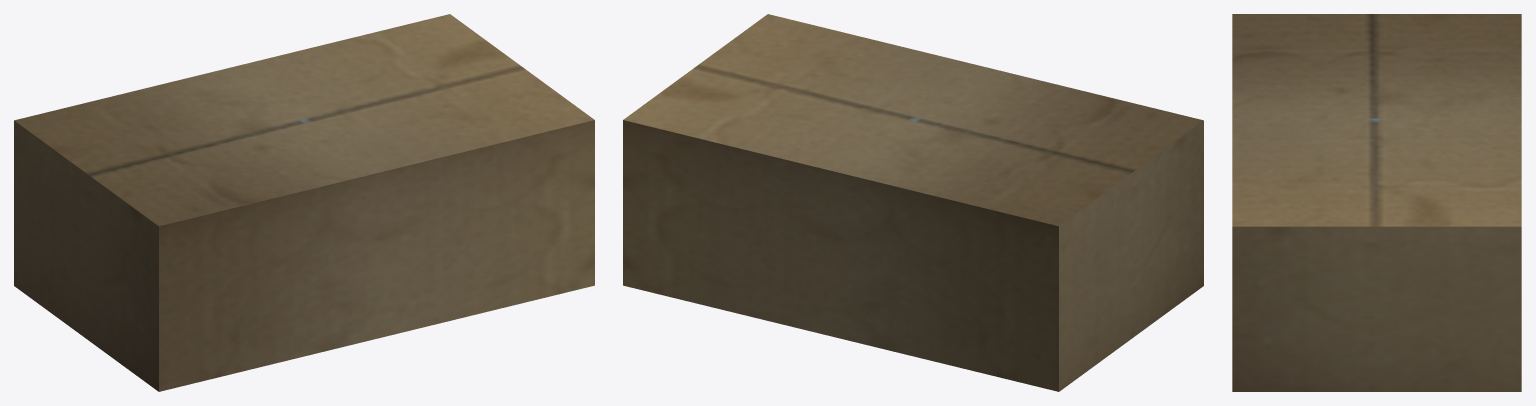
File: paper_box_c.fbx
The picture shows the model from 3 angles, left to right: view 1: azimuth 30°, elevation 25°; view 2: azimuth 150°, elevation 25°; view 3: azimuth 270°, elevation 25°; orthographic projection.
Parts seen in each view (by area): view 1: CardboardBox_3; view 2: CardboardBox_3; view 3: CardboardBox_3.
Boxes of the visible parts, x1,y1,x2,y2 form: CardboardBox_3: (14, 14, 594, 391); CardboardBox_3: (623, 14, 1203, 391); CardboardBox_3: (1232, 14, 1521, 391).
Bounding box in the file's own units: 124 × 45.16 × 71.63.
